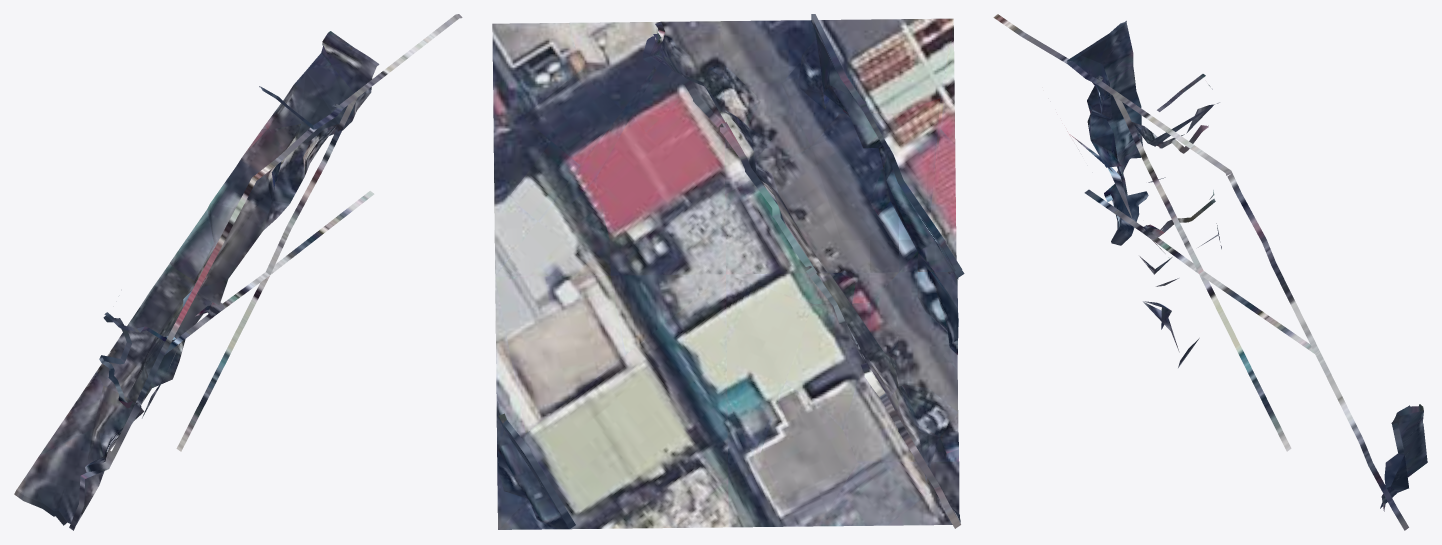
The picture shows the model from 3 angles, left to right: view 1: azimuth 30°, elevation 25°; view 2: azimuth 150°, elevation 25°; view 3: azimuth 270°, elevation 25°; orthographic projection. The views are drawn at different scales.
Bounding box in the file's own units: 40.92 × 37.45 × 33.85.
Materials: 1 (1 with a texture image).
